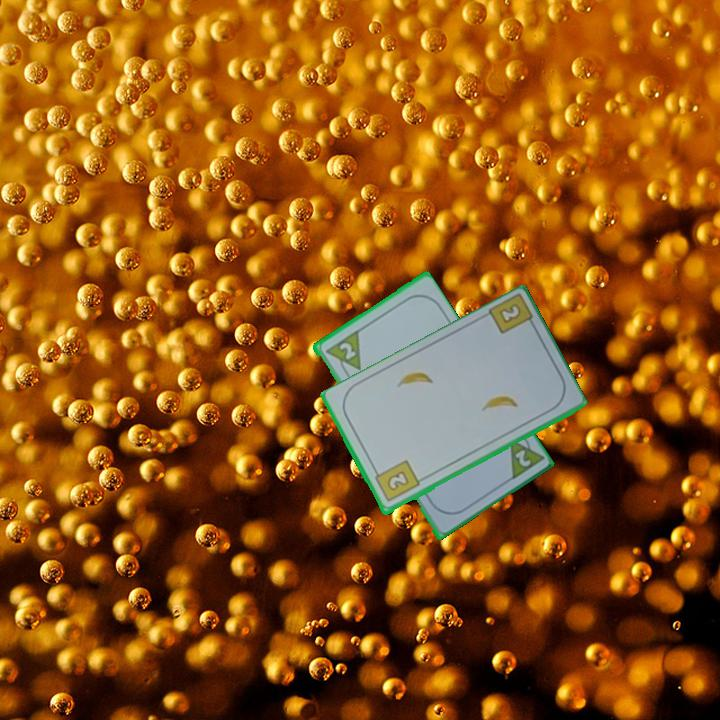2b: (370, 457, 422, 505), (484, 292, 539, 337)
2p: (335, 338, 358, 363), (511, 446, 534, 470)
